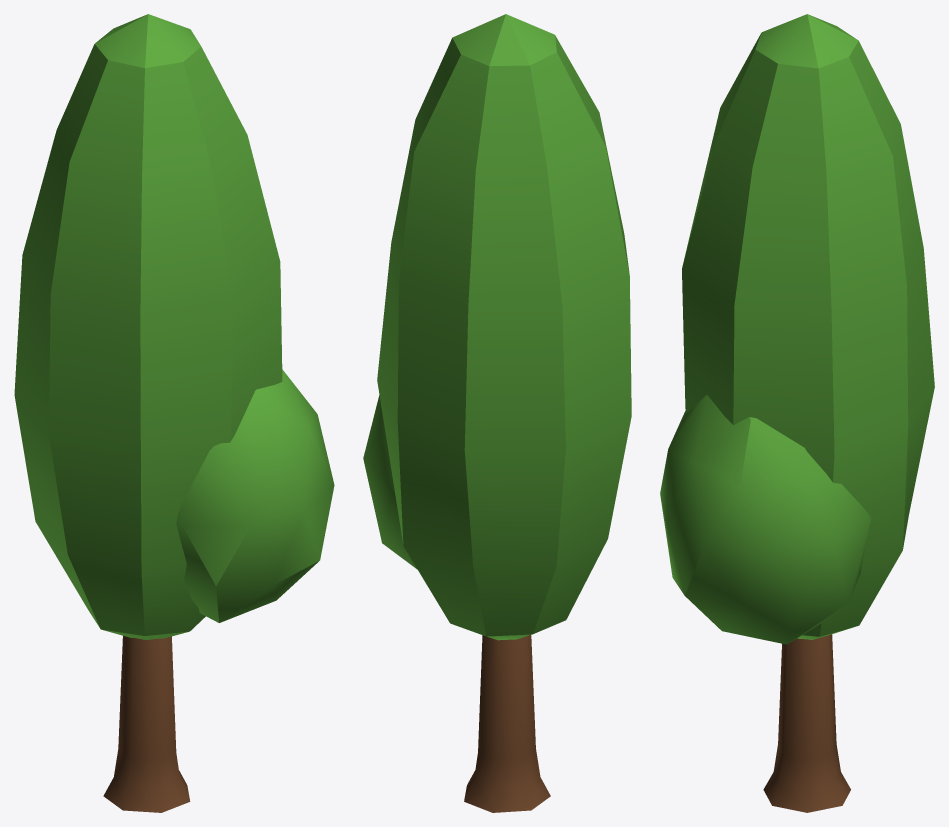
File: tree_poplar.glb
3 renders of one model, left to right at view 1: azimuth 30°, elevation 25°; view 2: azimuth 150°, elevation 25°; view 3: azimuth 270°, elevation 25°, orthographic.
Parts seen in each view (by area): view 1: tree; view 2: tree; view 3: tree.
Boxes of the visible parts, x1,y1,x2,y2 form: tree: [14, 14, 334, 812]; tree: [363, 14, 631, 812]; tree: [660, 14, 934, 812].
Bounding box in the file's own units: 2.61 × 7.45 × 2.38.
